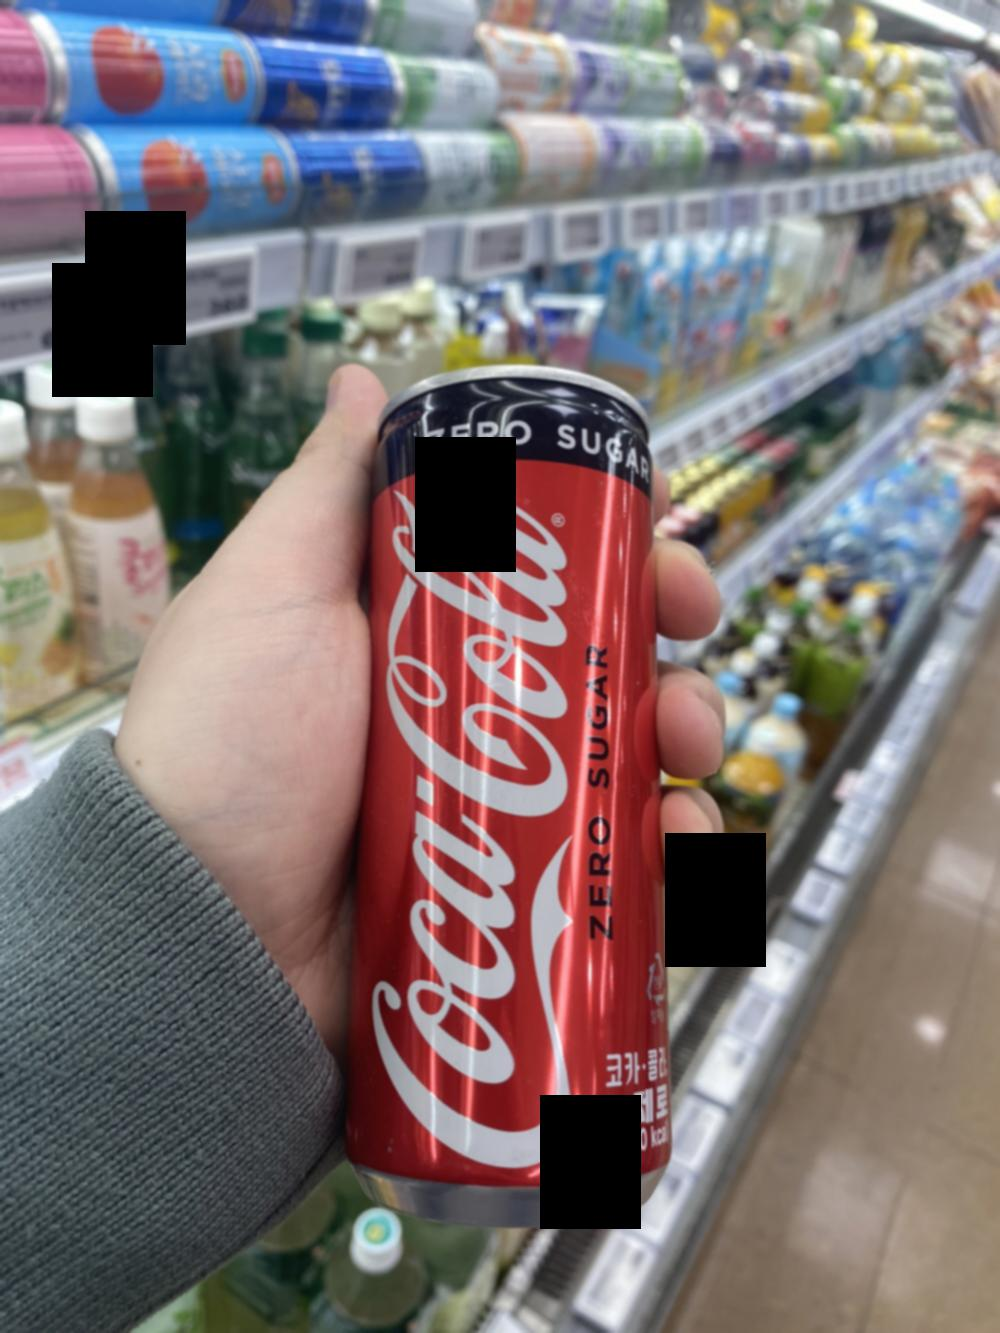cocacola_zero: (368, 359, 658, 1190)
